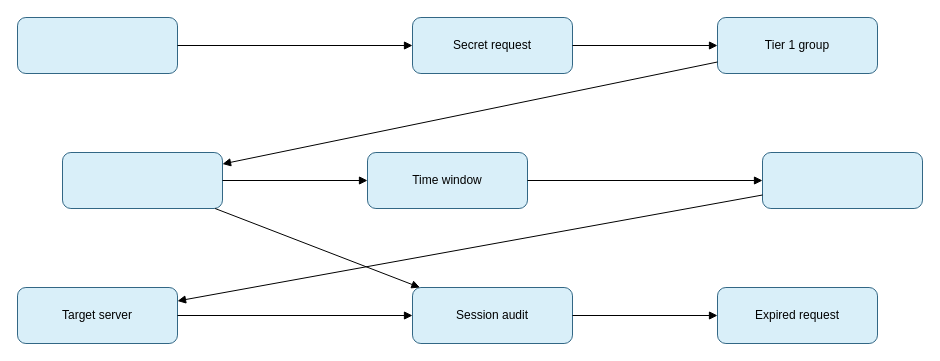
Some shapes in this 940 by 361 pixel diagram are drawn without their labels. Each missing label, with the box of its shape:
Launcher gate: (762, 152, 922, 208)
Requester: (16, 16, 178, 74)
Tier 2 group: (62, 152, 222, 208)
